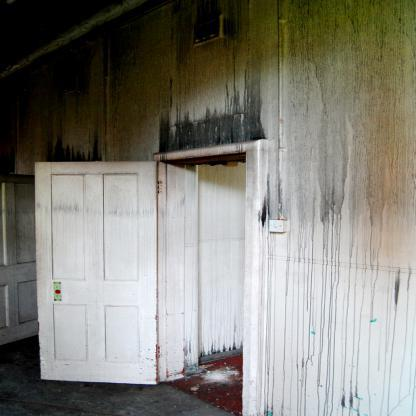door: (38, 163, 159, 381), (0, 184, 35, 341)
